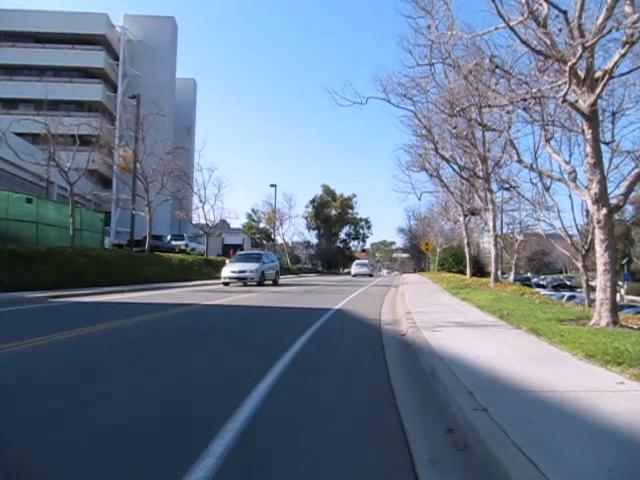signalAhead: (417, 238, 435, 255)
